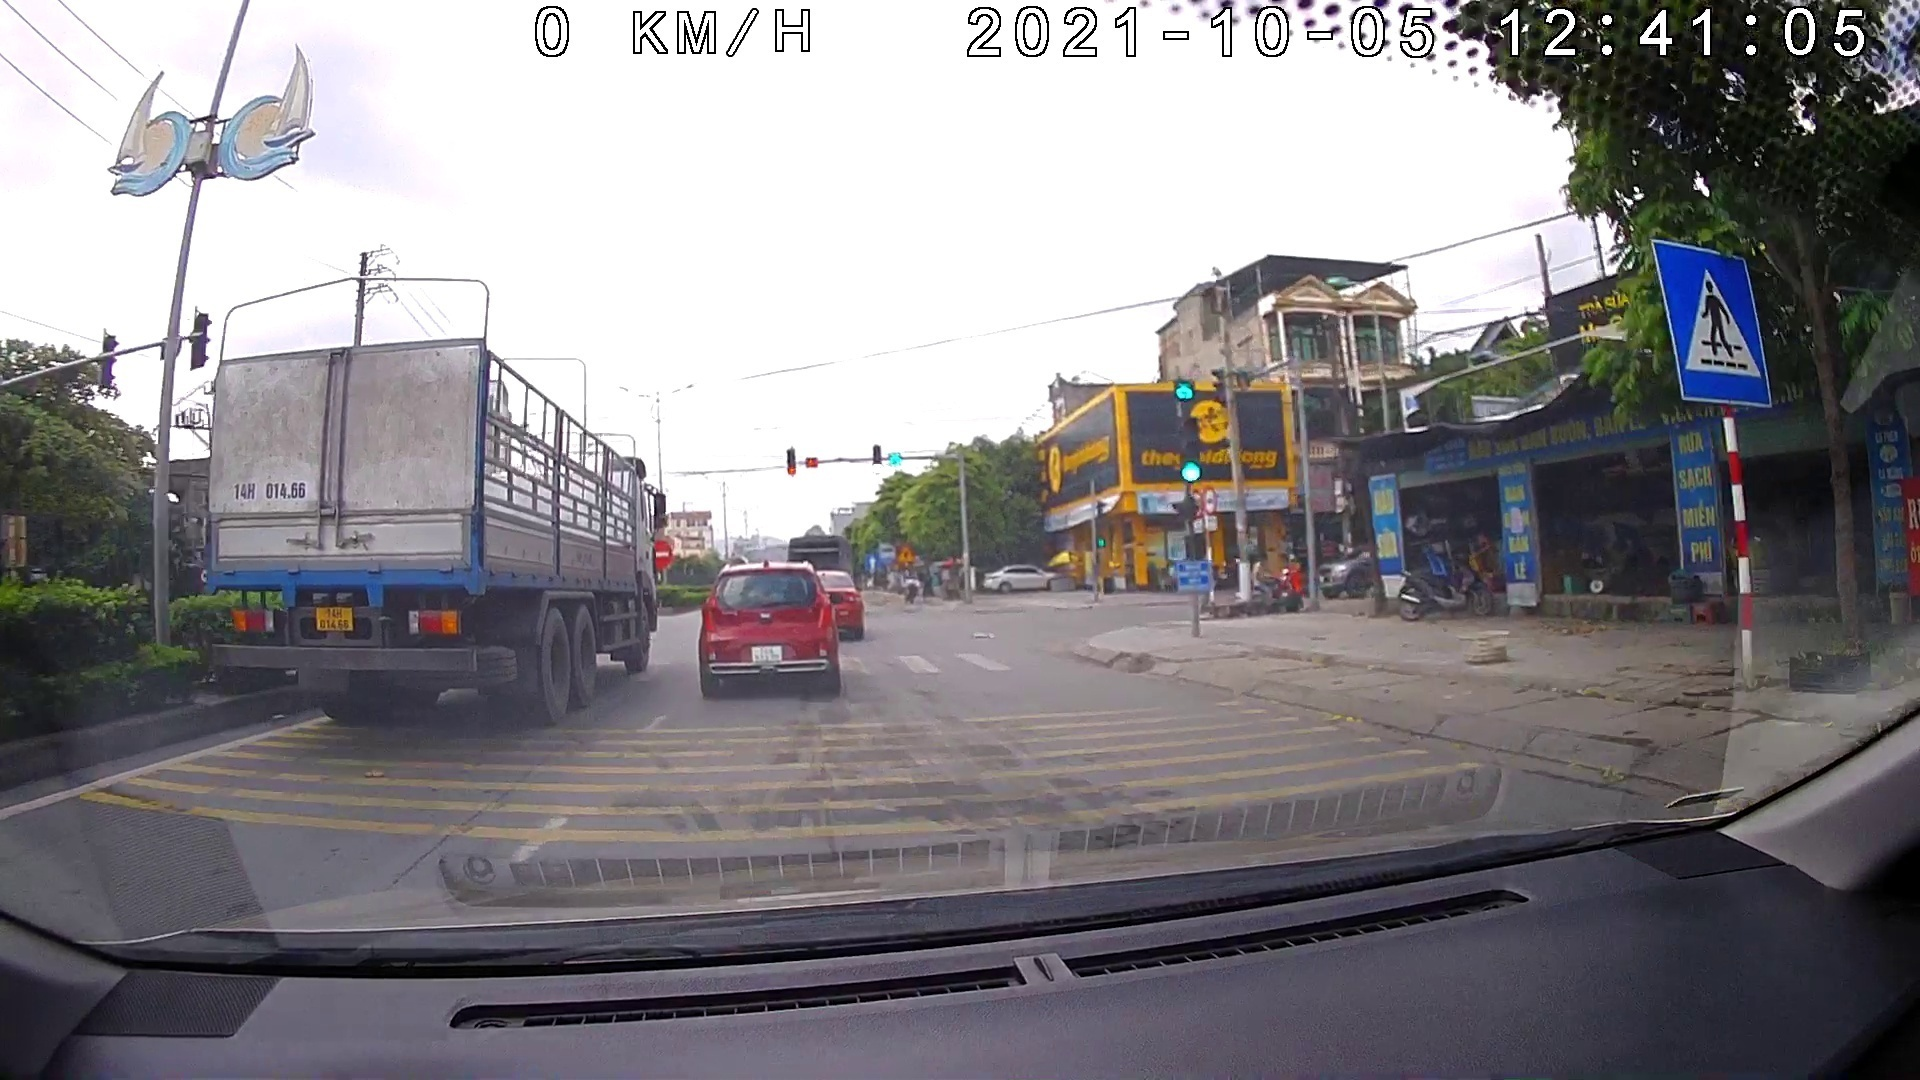Cam di nguoc chieu: (651, 537, 674, 570)
Nguoi di bo: (1650, 237, 1782, 415)
